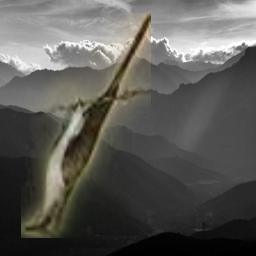Cuckoo: (21, 13, 151, 238)
